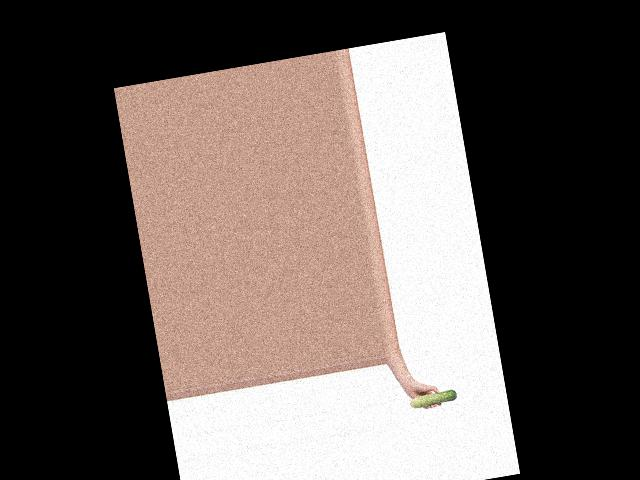cucumber: (408, 388, 457, 408)
